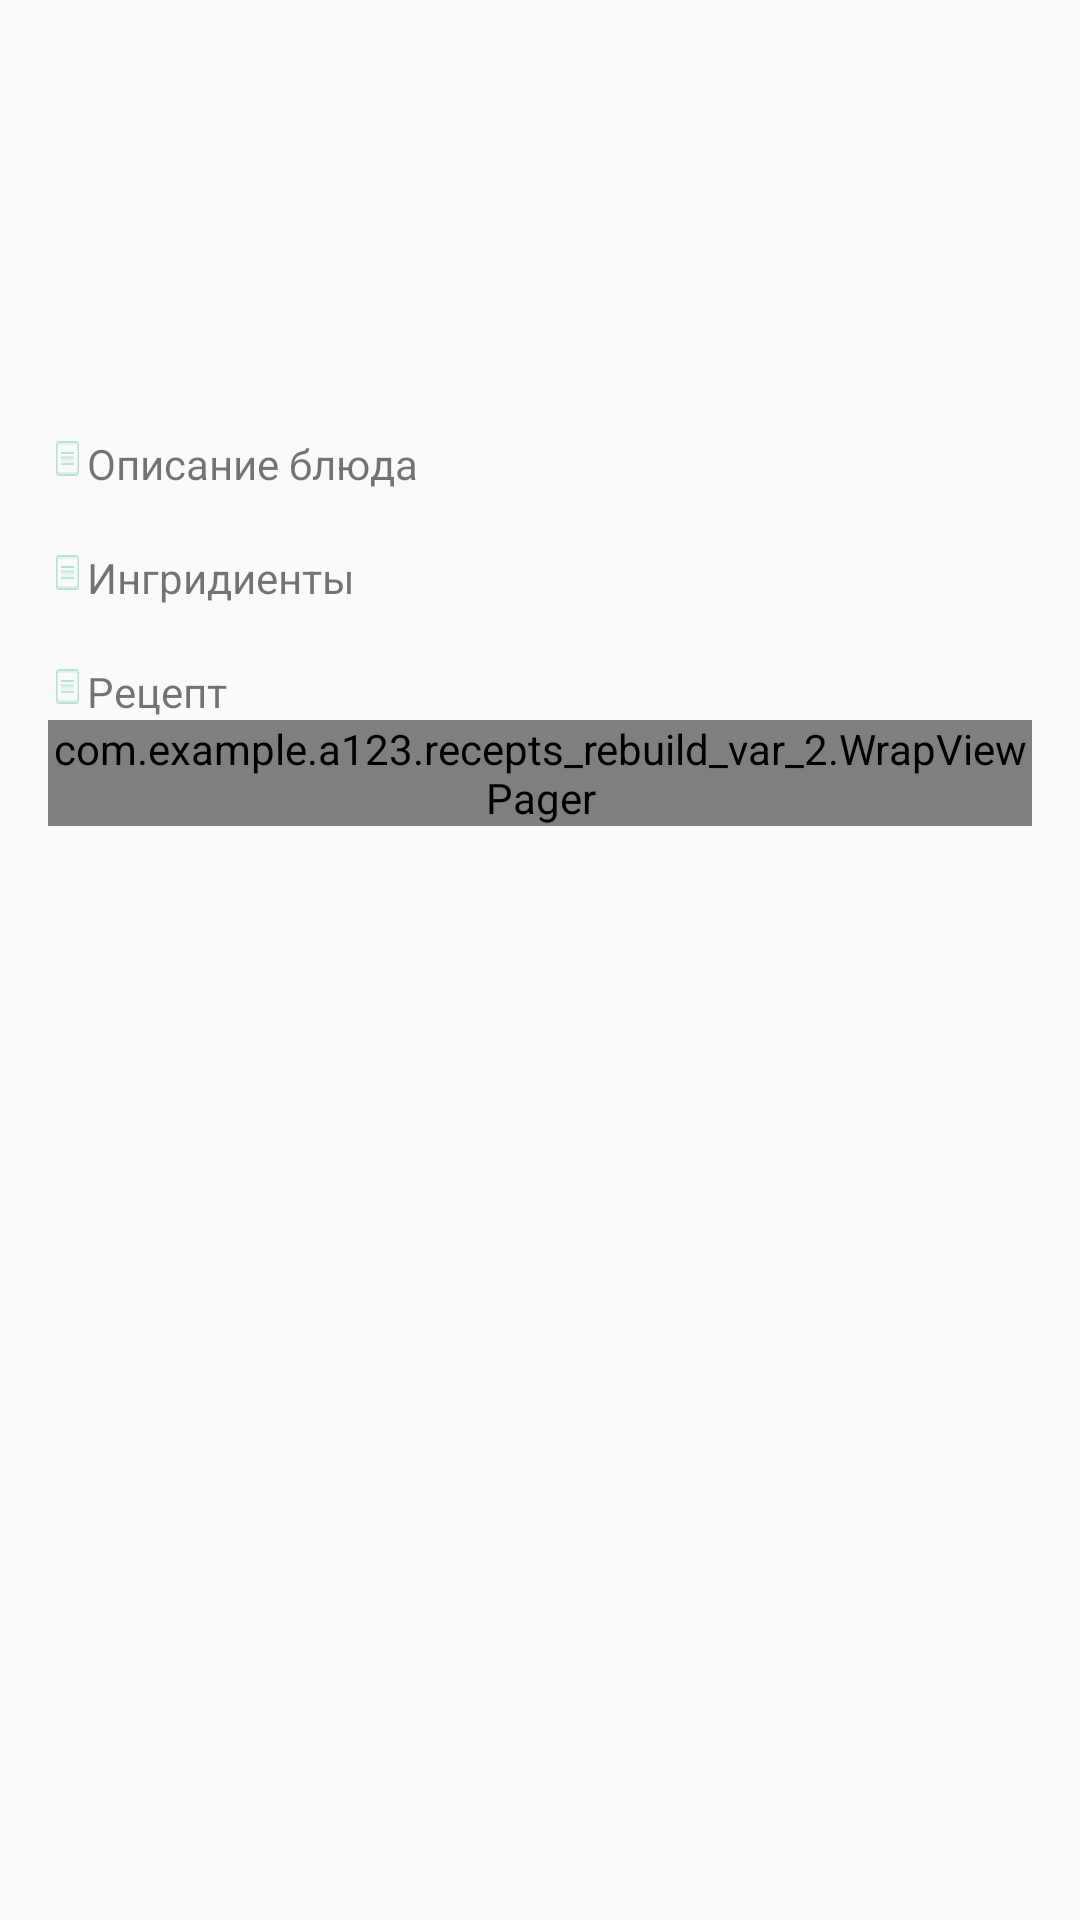

Screen size 1080 x 1920. Icon name, then its center in pixels as [x,y]:
list: [67,458], [67,572], [67,686]
